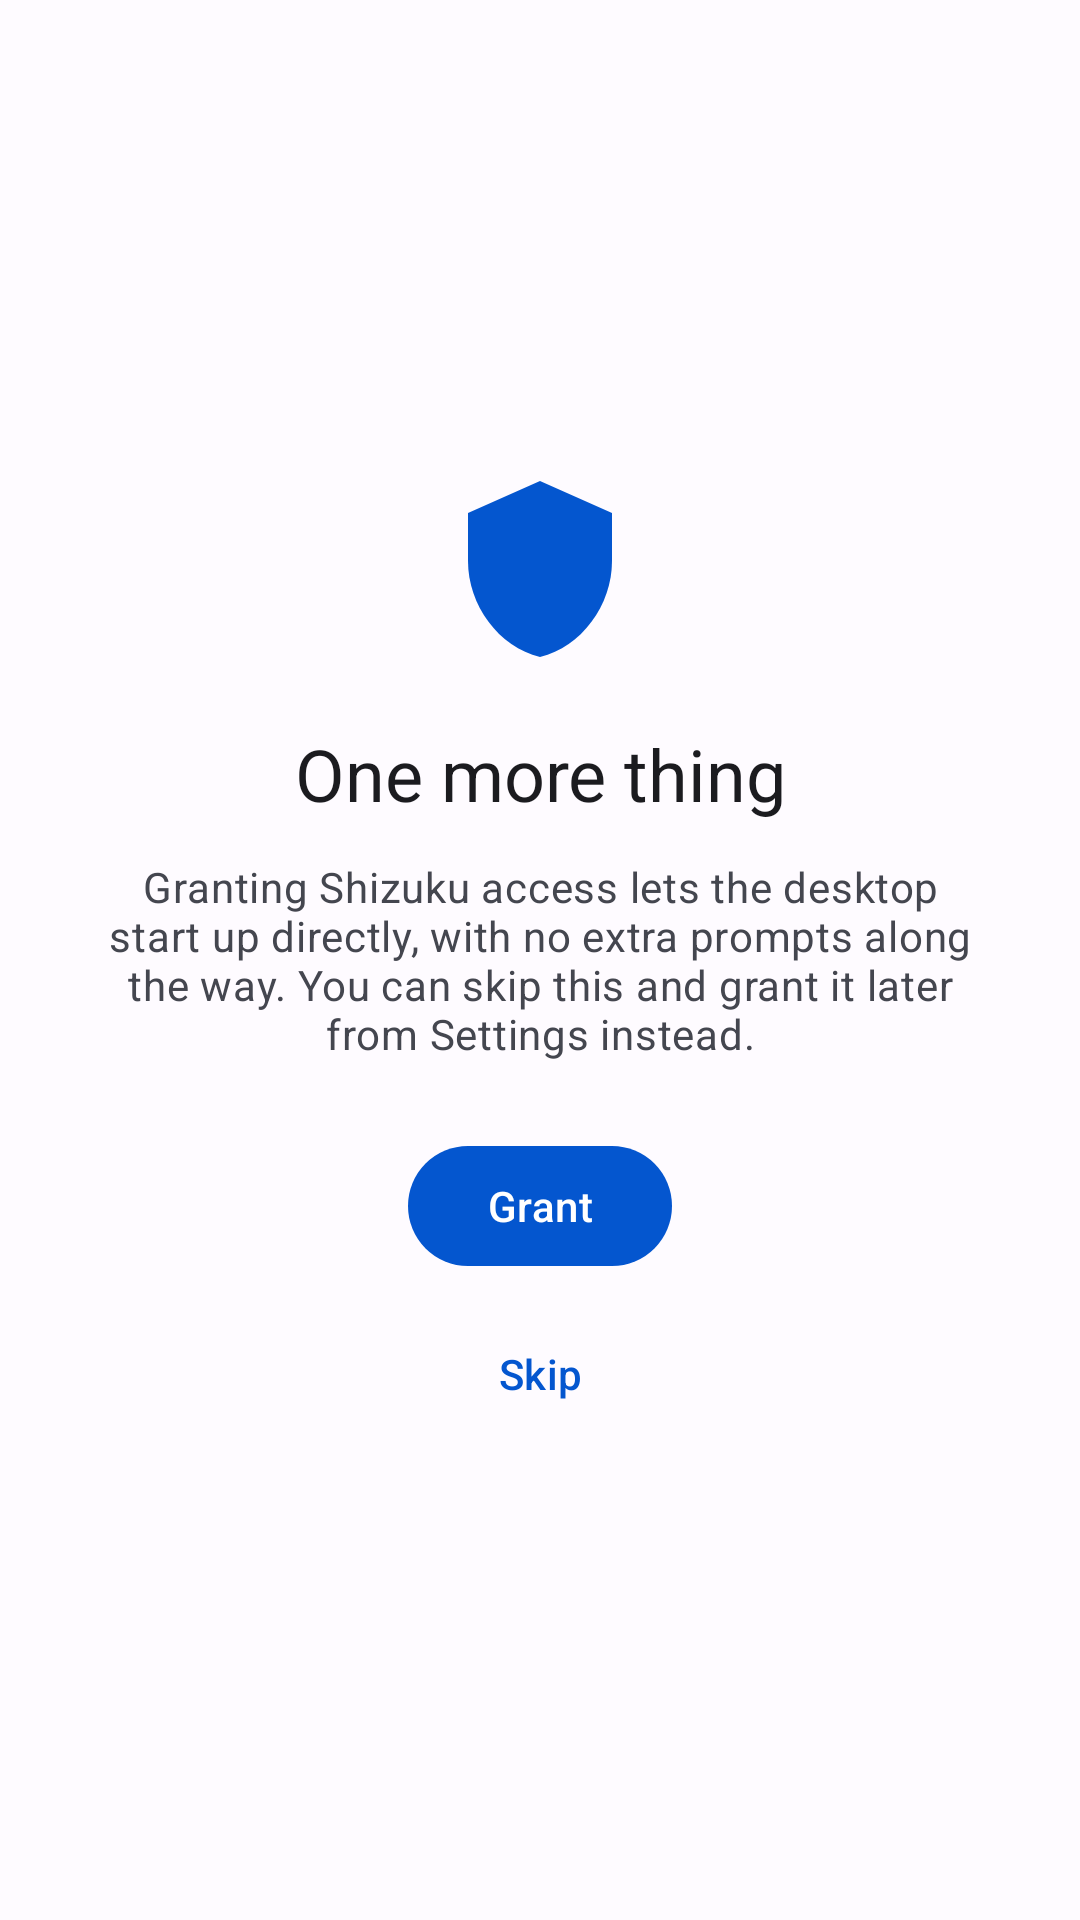

Where icons sit on this 1080 x 1920 app screen, as (x1, y1, x2, y2):
shield: (468, 481, 612, 657)
